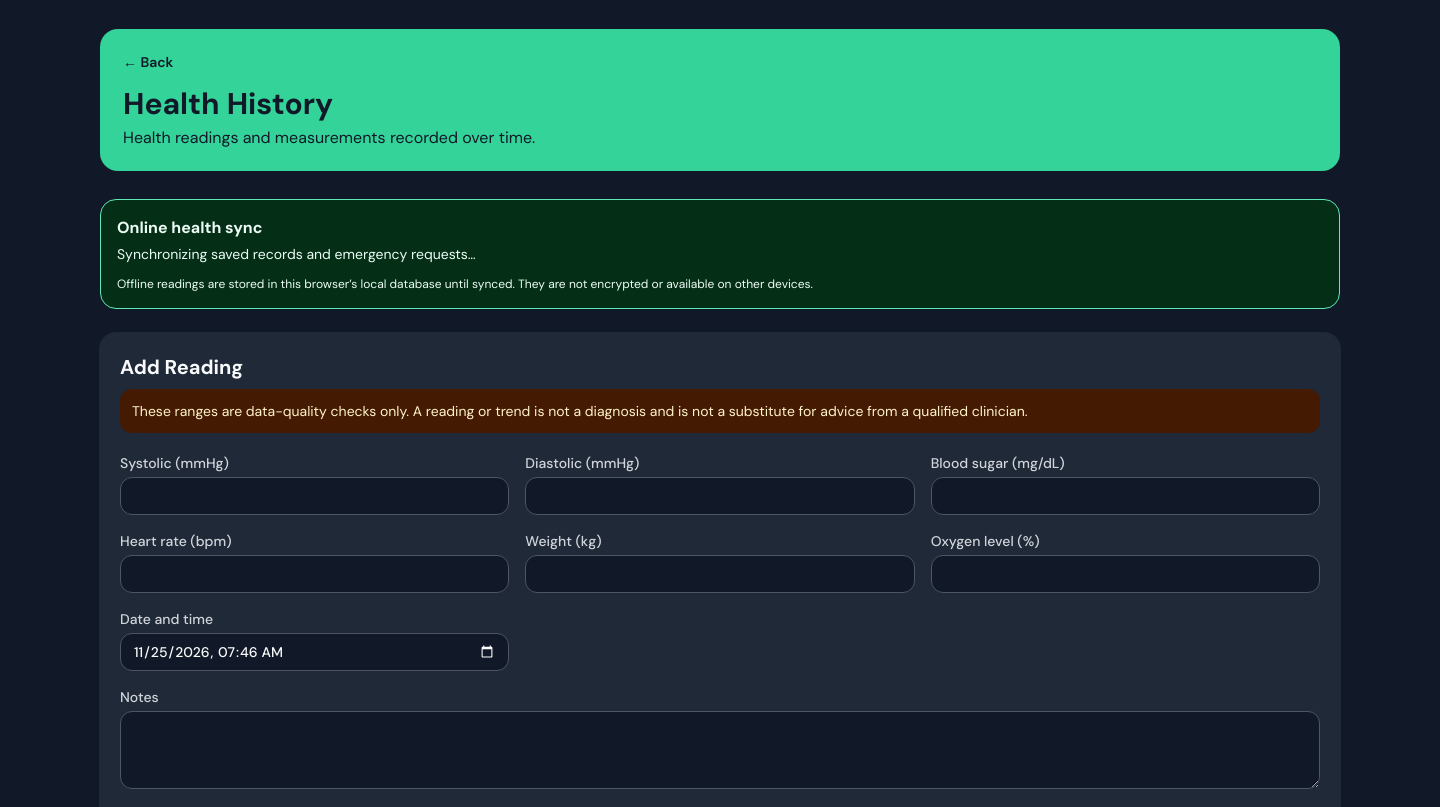
Test: Add Reading form › shows inline range errors for out-of-range measurements
This screenshot has width=1440, height=807.
Type "300" into the number field labelled "Systolic (mmHg)". click: (315, 496)
box: [120,477,509,515]
(page scrolled)
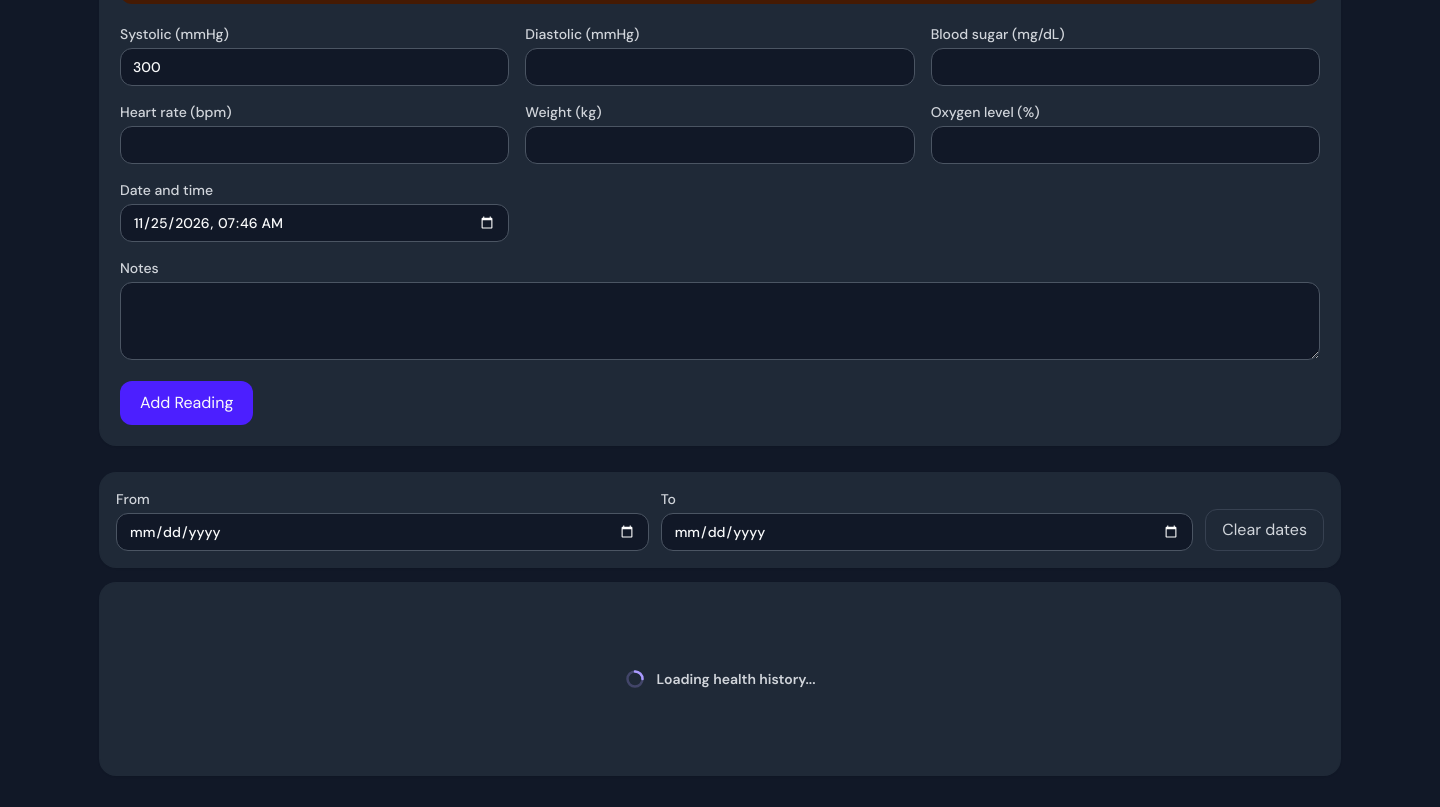
Click the button "Add Reading". click: (187, 403)
box: [120,381,253,425]
(page scrolled)
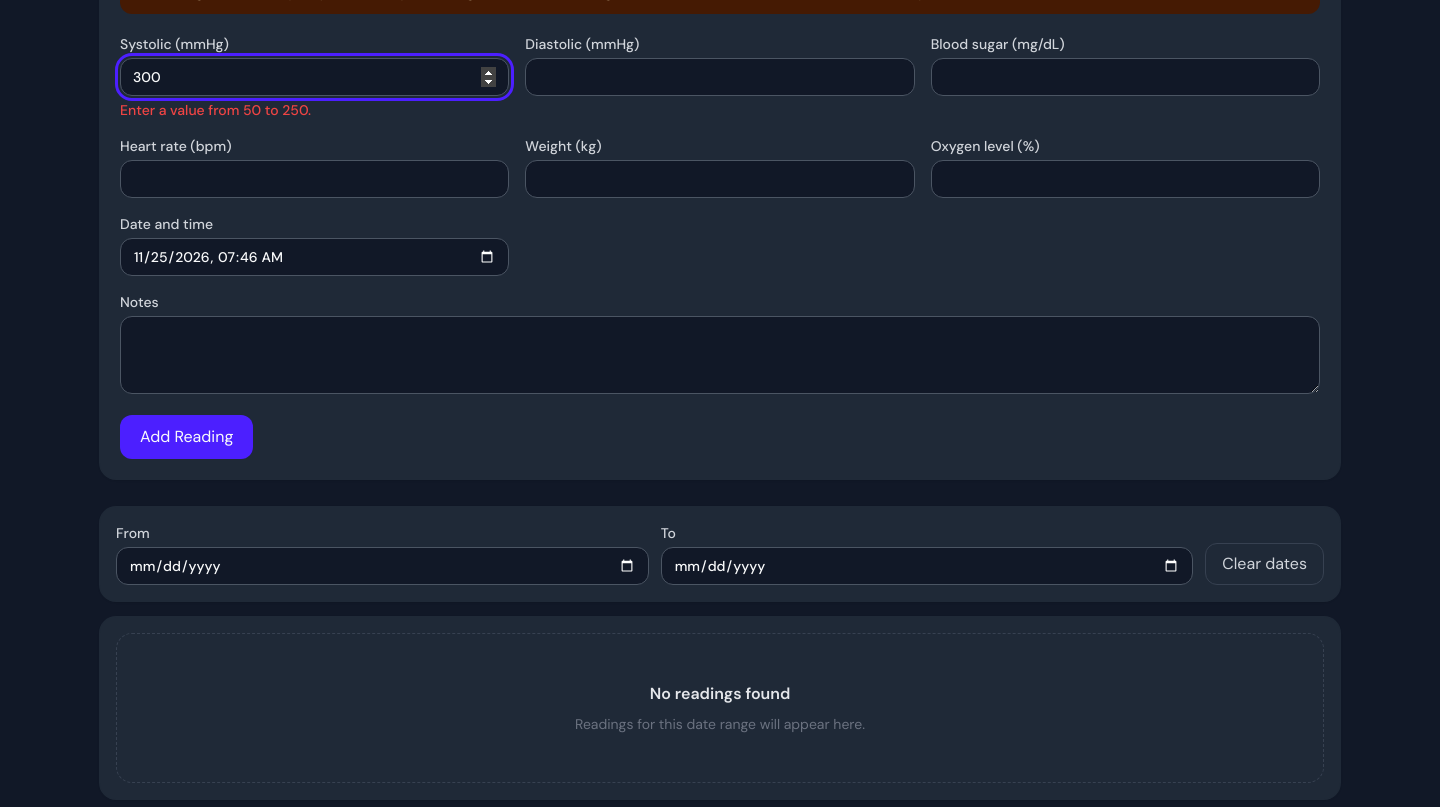
Check: the text "Enter a value from 50 to 250." is shown, box [120,101,311,119]
